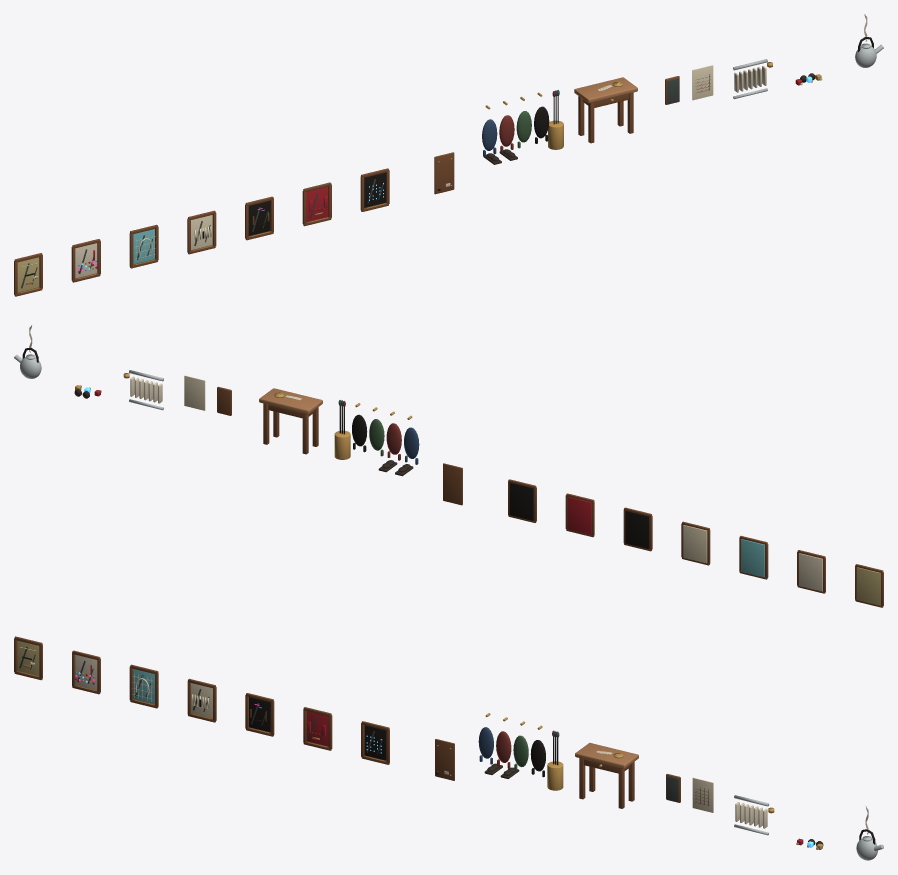
The picture shows the model from 3 angles, top to bottom: view 1: azimuth 30°, elevation 25°; view 2: azimuth 150°, elevation 25°; view 3: azimuth 330°, elevation 25°; orthographic projection.
Parts seen in each view (by area): view 1: table_top, phone_mount_plate, calendar_page, office_backing, motel_backing, cathedral_backing, ballpit_backing, pool_backing, theatre_backing, library_backing; view 2: table_top, cathedral_backing, motel_backing, library_backing, office_backing, theatre_backing, ballpit_backing, pool_backing, phone_mount_plate, calendar_page; view 3: table_top, phone_mount_plate, calendar_page, cathedral_backing, office_backing, ballpit_backing, motel_backing, pool_backing, theatre_backing, library_backing, umbrella_stand.
Part boxes in pixels (x1,y1,x2,y2): table_top: (574, 77, 637, 103); phone_mount_plate: (434, 152, 454, 194); calendar_page: (692, 65, 713, 100); office_backing: (17, 257, 39, 292); motel_backing: (248, 201, 270, 235); cathedral_backing: (364, 172, 385, 207); ballpit_backing: (75, 243, 97, 278); pool_backing: (133, 229, 154, 264); theatre_backing: (306, 187, 328, 221); library_backing: (191, 215, 212, 249); table_top: (259, 388, 322, 414); cathedral_backing: (509, 482, 533, 520); motel_backing: (625, 511, 649, 549); library_backing: (683, 525, 707, 563); office_backing: (856, 567, 880, 605); theatre_backing: (567, 496, 591, 534); ballpit_backing: (799, 553, 822, 591); pool_backing: (741, 539, 764, 577); phone_mount_plate: (443, 463, 462, 505); calendar_page: (184, 375, 205, 410); table_top: (575, 743, 638, 768); phone_mount_plate: (435, 739, 454, 780); calendar_page: (692, 777, 713, 812); cathedral_backing: (364, 725, 386, 760); office_backing: (17, 641, 39, 675); ballpit_backing: (75, 655, 97, 689); motel_backing: (249, 697, 270, 732); pool_backing: (133, 669, 154, 704); theatre_backing: (306, 711, 328, 746); library_backing: (191, 683, 212, 718); umbrella_stand: (547, 761, 563, 790).
Size of the model in its own units: 15.04 by 1.25 by 0.44.
